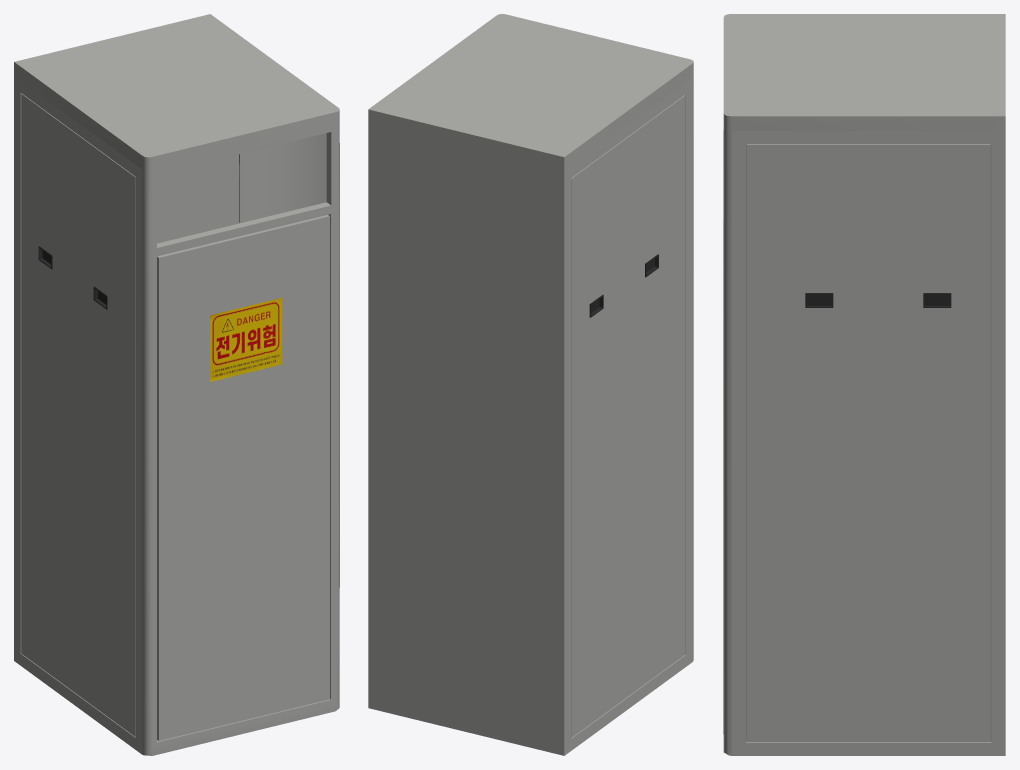
3 views of the same model, side by side, from view 1: azimuth 30°, elevation 25°; view 2: azimuth 150°, elevation 25°; view 3: azimuth 270°, elevation 25° (orthographic). The views are drawn at different scales.
Parts seen in each view (by area): view 1: PDR(직류분전반) 80회로 이중화_KRN004; view 2: PDR(직류분전반) 80회로 이중화_KRN004; view 3: PDR(직류분전반) 80회로 이중화_KRN004.
Boxes of the visible parts, <box> form: PDR(직류분전반) 80회로 이중화_KRN004: <box>14,14,339,755</box>; PDR(직류분전반) 80회로 이중화_KRN004: <box>368,14,693,755</box>; PDR(직류분전반) 80회로 이중화_KRN004: <box>723,14,1005,755</box>.
Size of the model in its own units: 0.606 by 1.75 by 0.7018.
4 materials, 2 textured.
